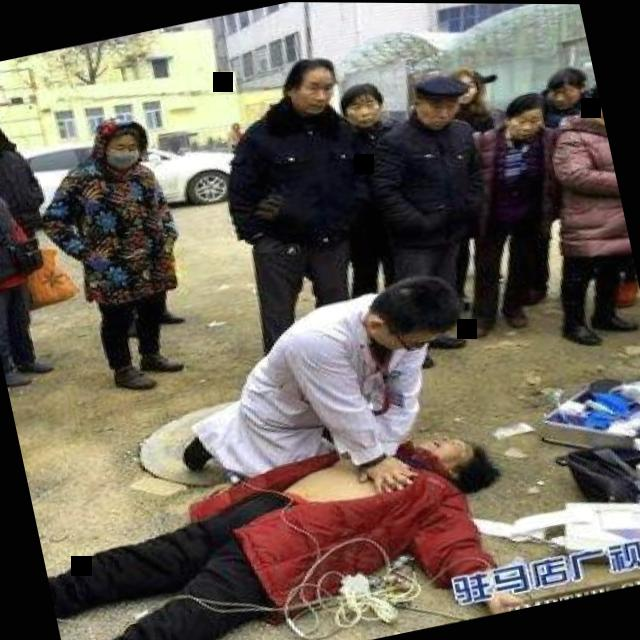Fall-Detected: (30, 394, 542, 640)
